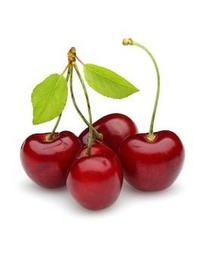cherry: (119, 129, 185, 192), (66, 142, 124, 210), (21, 131, 78, 187), (79, 113, 138, 166)
